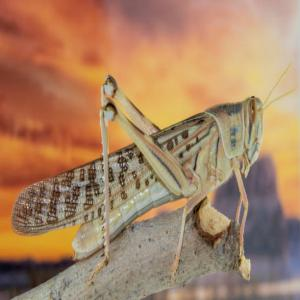locust: (9, 67, 281, 264)
